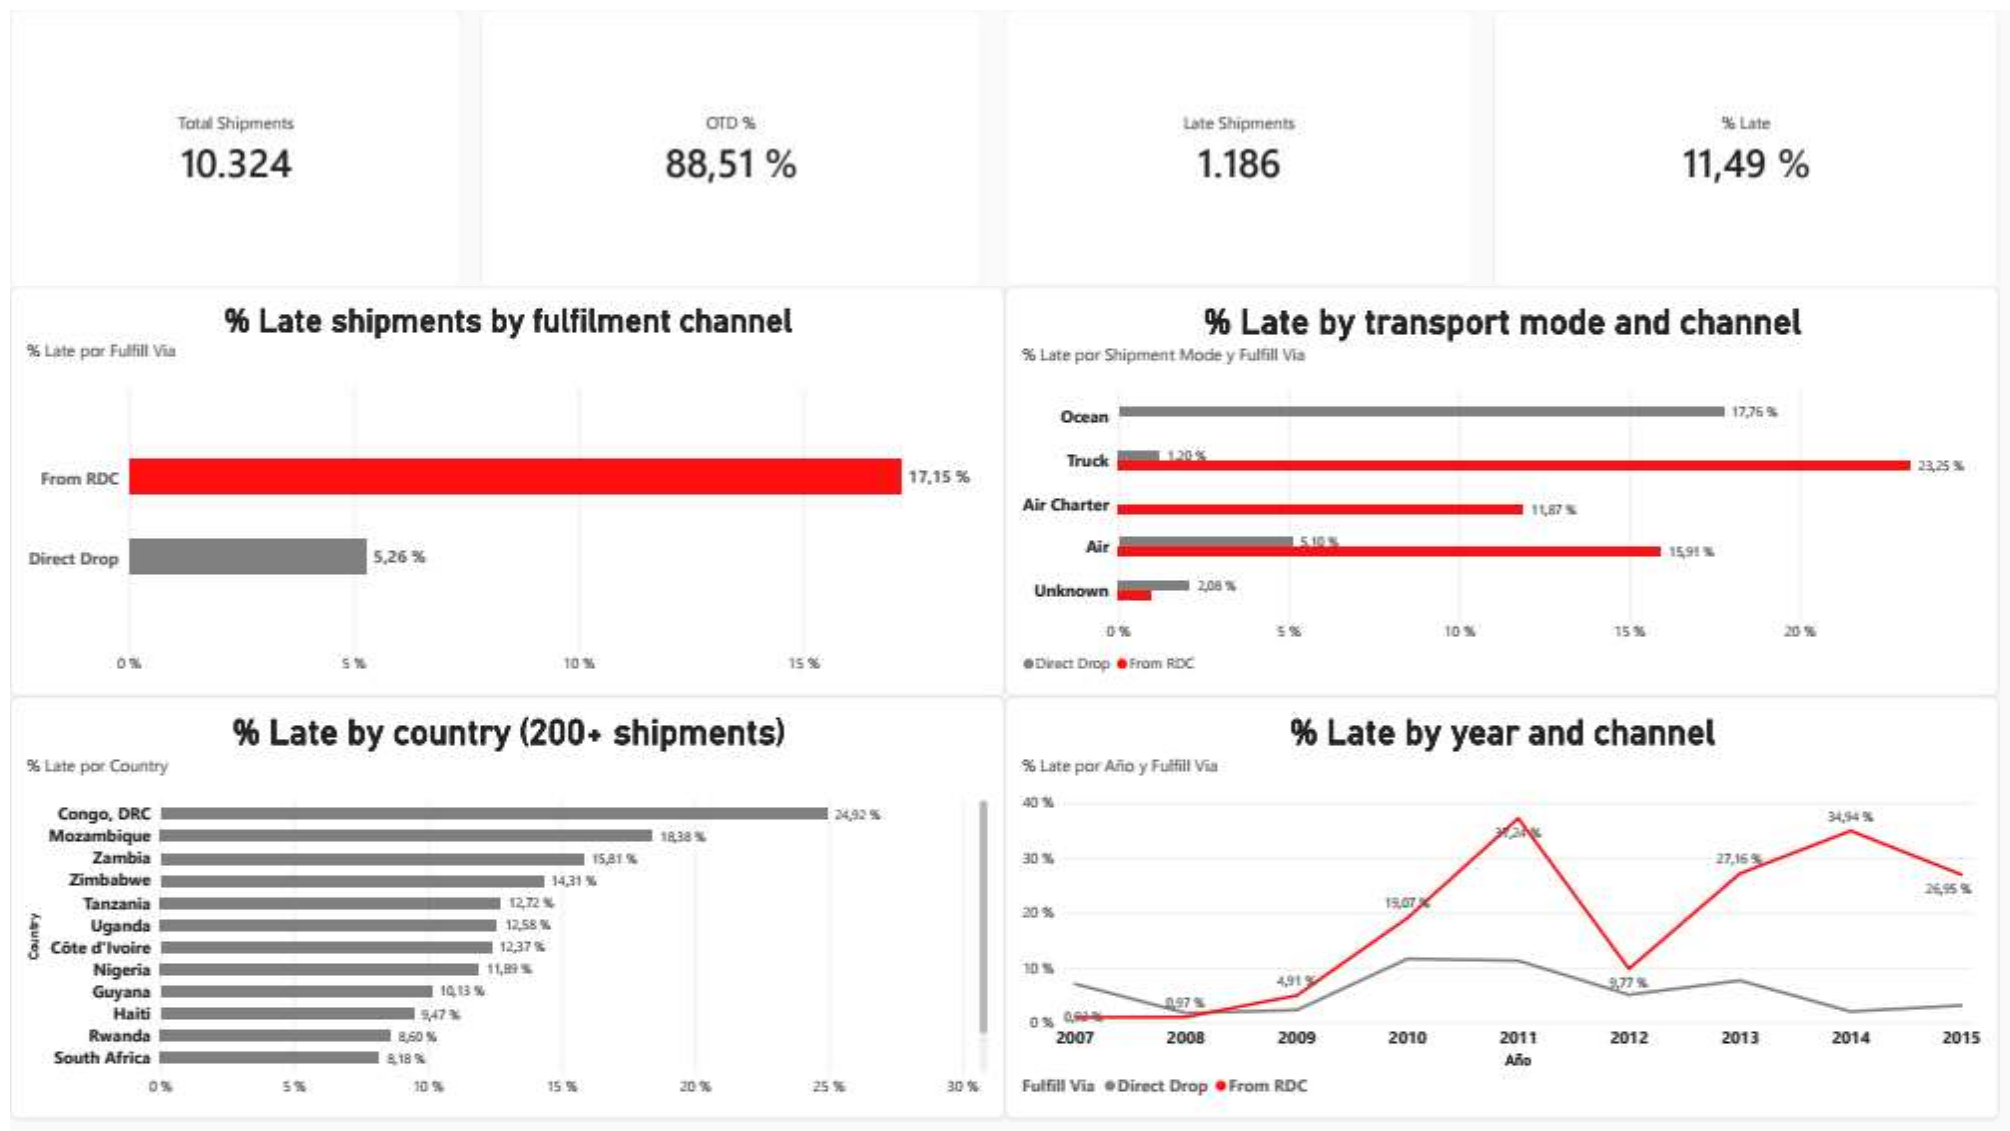

What the dashboard file says about the page in this screenshot:
{"tool":"powerbi","page":{"name":"Página 1","canvas":[1920,1080],"ordinal":0},"visuals":[{"type":"cardVisual","fields":{"Data":["Raw_Data1.% Late"]},"box":[1433.4,0,486.2,269.6],"z":0},{"type":"cardVisual","fields":{"Data":["Raw_Data1.Late Shipments"]},"box":[961,0,454,267.3],"z":1000},{"type":"cardVisual","fields":{"Data":["Raw_Data1.OTD %"]},"box":[454,0,483.9,269.6],"z":2000},{"type":"cardVisual","fields":{"Data":["Raw_Data1.Total Shipments"]},"box":[0,0,437.8,269.6],"z":3000},{"type":"clusteredBarChart","title":"% Late shipments by fulfilment channel","fields":{"Category":["Raw_Data1.Fulfill Via"],"Y":["Raw_Data1.% Late"]},"box":[0,267.3,961,396.4],"z":4000},{"type":"clusteredBarChart","title":"% Late by transport mode and channel","fields":{"Category":["Raw_Data1.Shipment Mode"],"Series":["Raw_Data1.Fulfill Via"],"Y":["Raw_Data1.% Late"]},"box":[961,267.3,958.7,396.4],"z":4001},{"type":"clusteredBarChart","title":"% Late by country (200+ shipments)","fields":{"Category":["Raw_Data1.Country"],"Y":["Raw_Data1.% Late"]},"box":[0,663.7,961,407.9],"z":4002},{"type":"lineChart","title":"% Late by year and channel","fields":{"Category":["Raw_Data1.Scheduled Delivery Date.Variation.Jerarquía de fechas.Año","Raw_Data1.Scheduled Delivery Date.Variation.Jerarquía de fechas.Trimestre","Raw_Data1.Scheduled Delivery Date.Variation.Jerarquía de fechas.Mes","Raw_Data1.Scheduled Delivery Date.Variation.Jerarquía de fechas.Día"],"Series":["Raw_Data1.Fulfill Via"],"Y":["Raw_Data1.% Late"]},"box":[961,663.7,958.7,407.9],"z":4003}]}

Visuals, with their boxes in screenshot pixels (x1, y1, x2, y2), scaled from the page's 1920x1080 canvas onto the 2010x1131 screenshot:
cardVisual - Raw_Data1.% Late: {"x1": 1501, "y1": 0, "x2": 2009, "y2": 282}
cardVisual - Raw_Data1.Late Shipments: {"x1": 1006, "y1": 0, "x2": 1481, "y2": 280}
cardVisual - Raw_Data1.OTD %: {"x1": 475, "y1": 0, "x2": 982, "y2": 282}
cardVisual - Raw_Data1.Total Shipments: {"x1": 0, "y1": 0, "x2": 458, "y2": 282}
"% Late shipments by fulfilment channel" clusteredBarChart: {"x1": 0, "y1": 280, "x2": 1006, "y2": 695}
"% Late by transport mode and channel" clusteredBarChart: {"x1": 1006, "y1": 280, "x2": 2009, "y2": 695}
"% Late by country (200+ shipments)" clusteredBarChart: {"x1": 0, "y1": 695, "x2": 1006, "y2": 1122}
"% Late by year and channel" lineChart: {"x1": 1006, "y1": 695, "x2": 2009, "y2": 1122}
